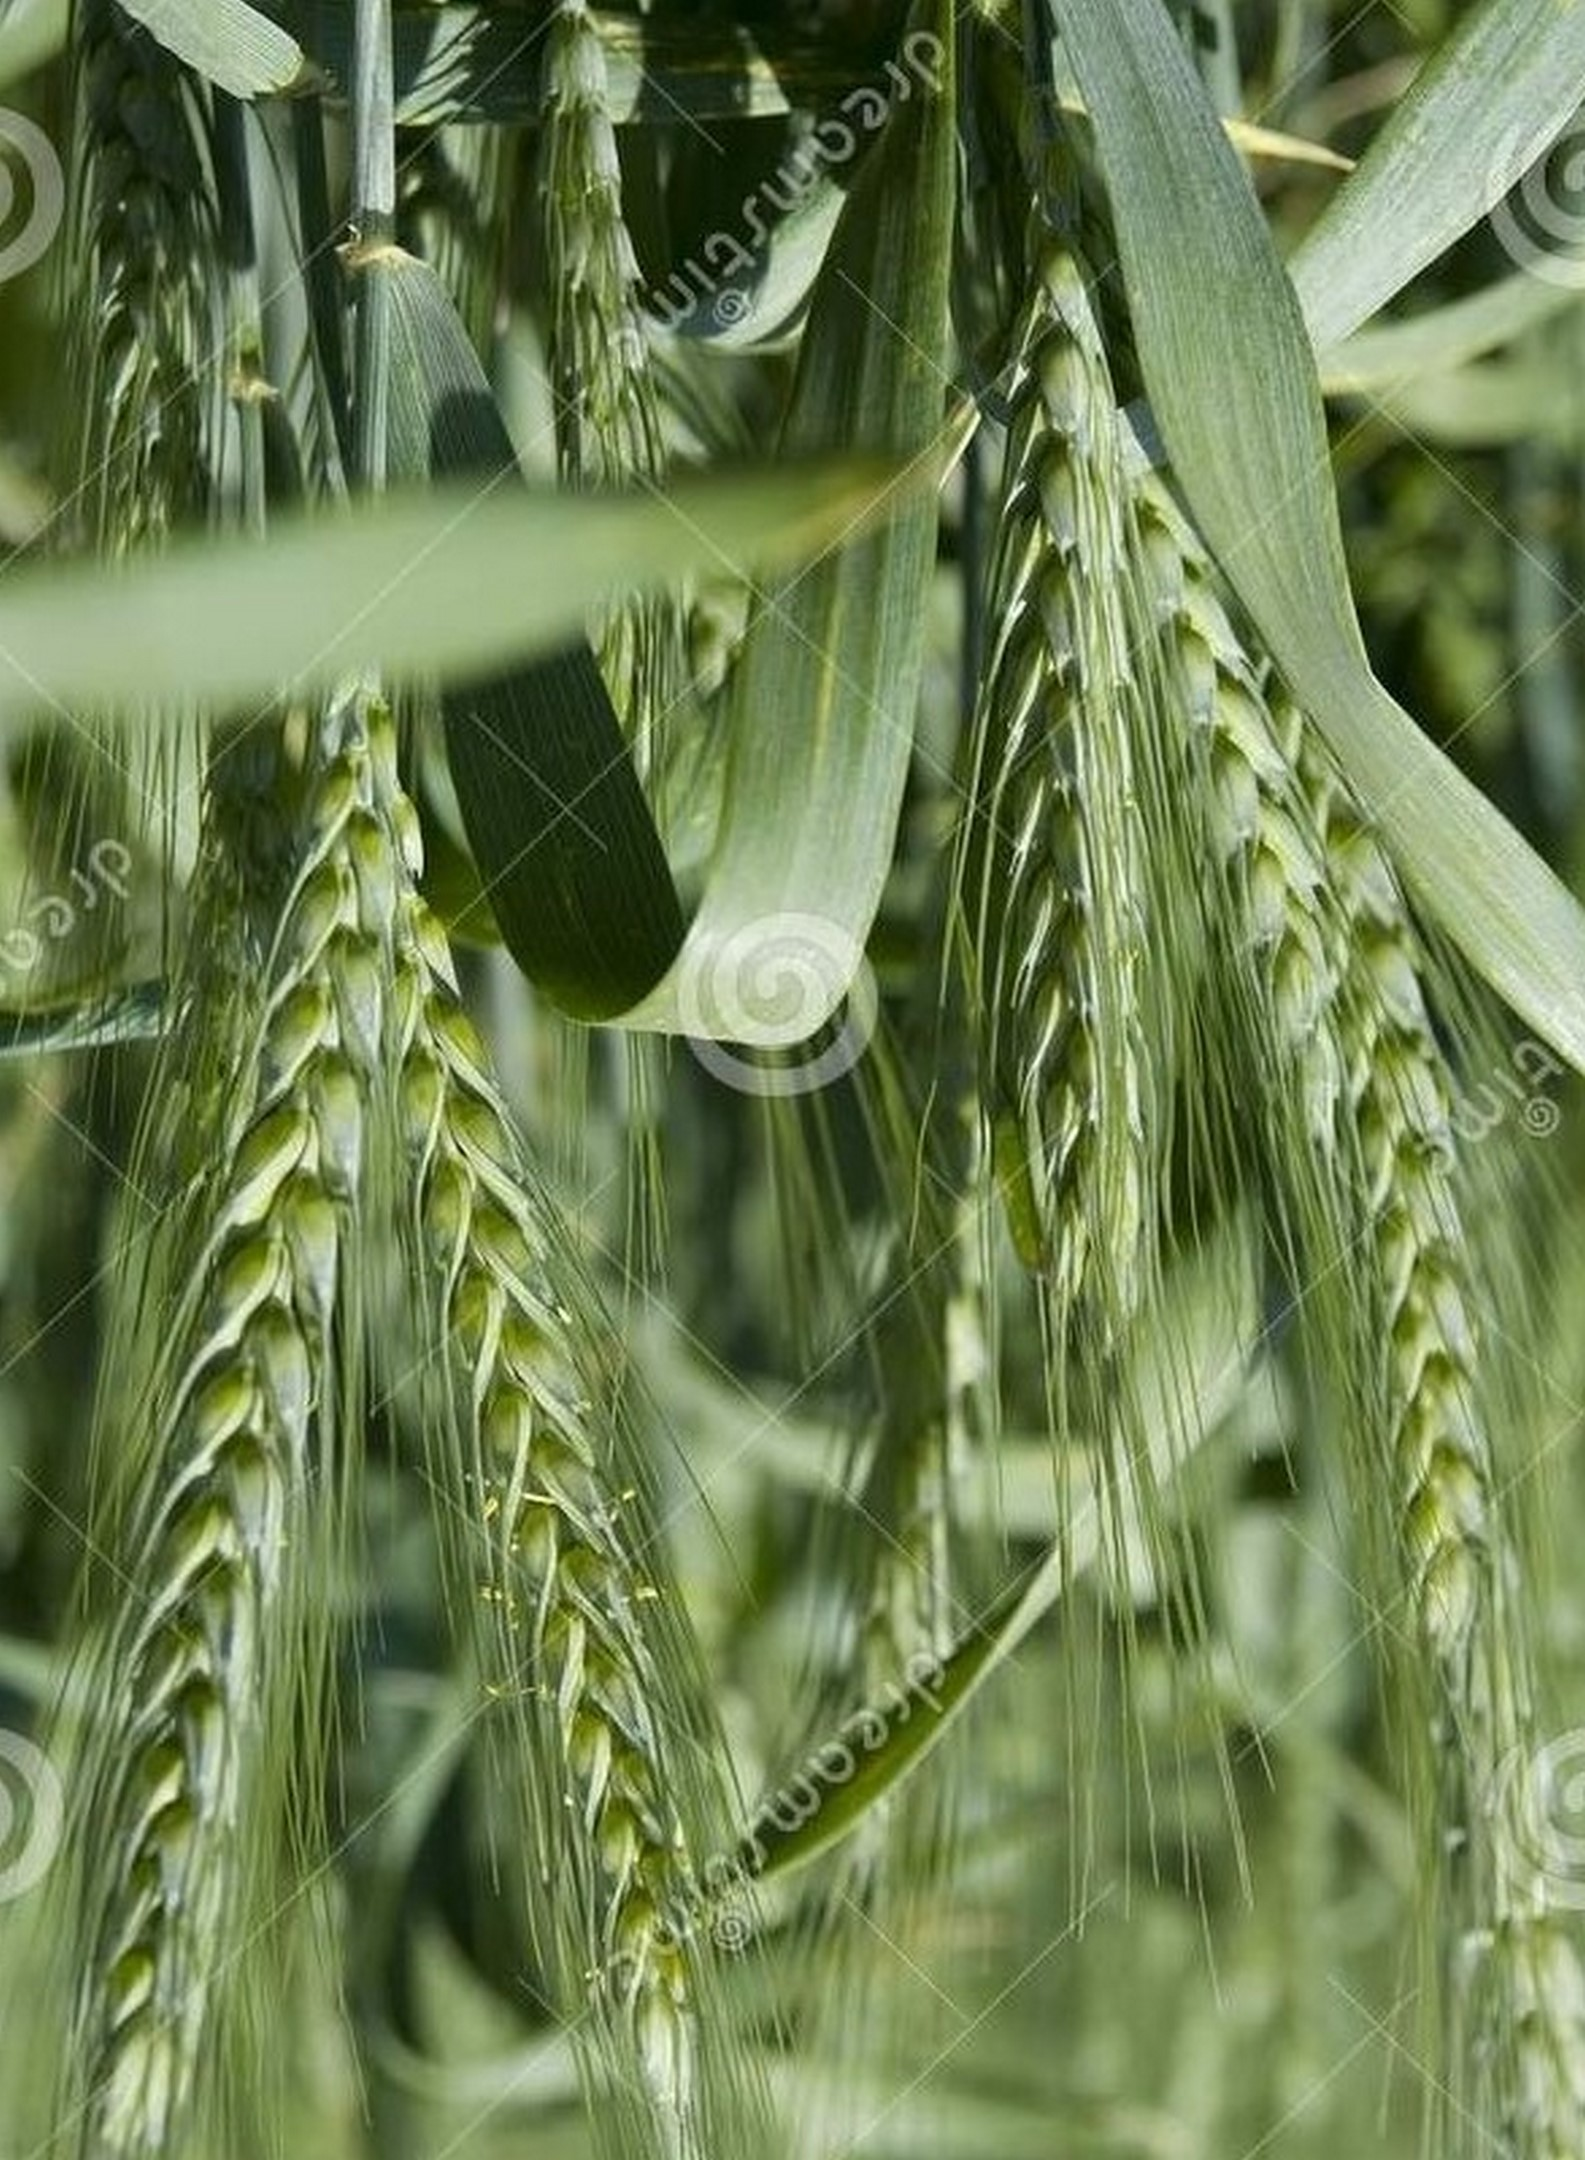Healthy Wheat: (25, 750, 409, 2090), (939, 345, 1187, 1301)
